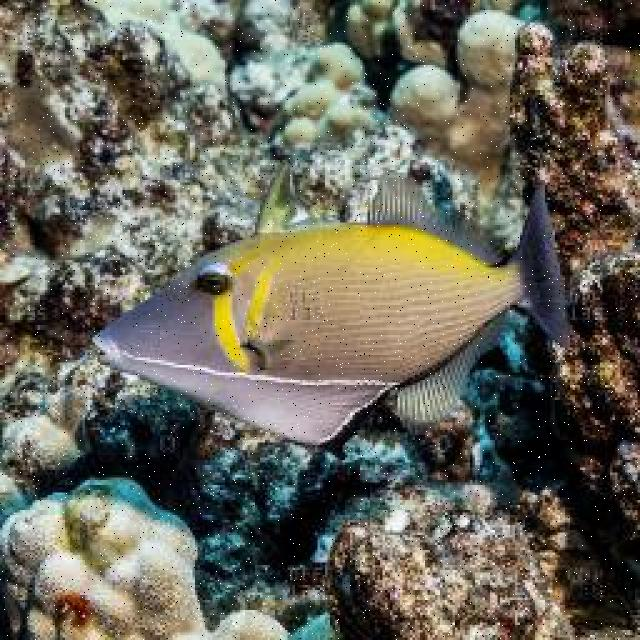fish: (92, 164, 574, 447)
reefs: (0, 475, 289, 638), (392, 9, 528, 186), (1, 417, 87, 476)
